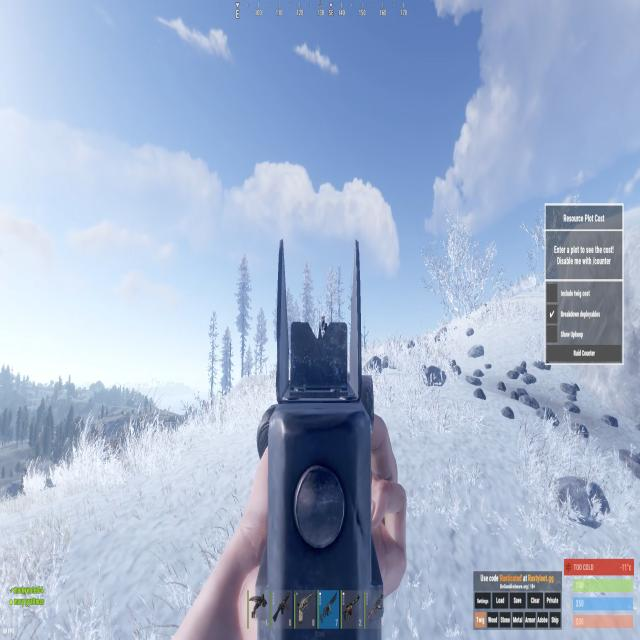Player: (320, 314, 328, 340)
